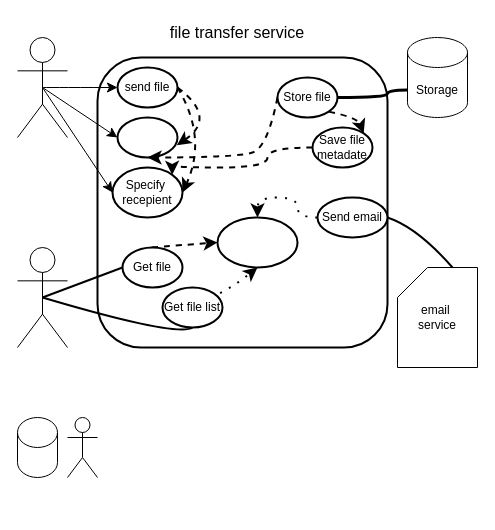
This 495x530 diagram has some shape labels left out. Here are the shapes that lost their labels. From the top down, the centre of each, then its label:
the point at 42,87: sender
the point at 147,137: Upload file
the point at 257,242: get available files
the point at 42,297: recepient
